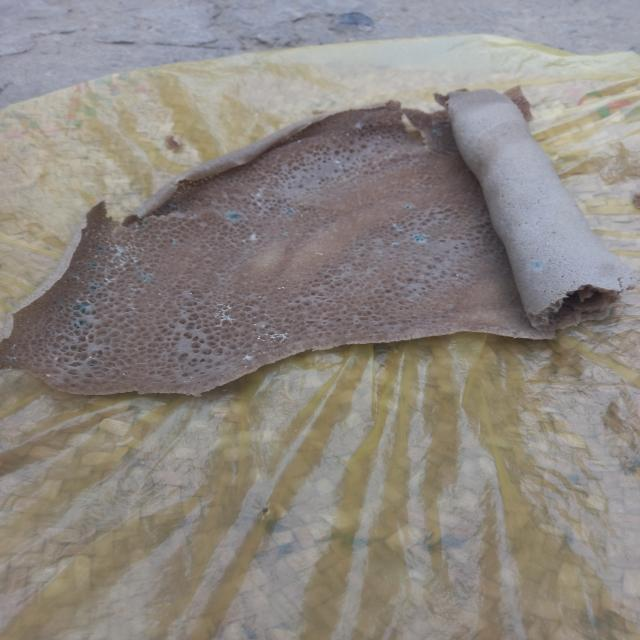injera_mold: (110, 241, 138, 267), (255, 326, 290, 345), (211, 302, 237, 326), (247, 186, 267, 203), (222, 209, 245, 223), (71, 299, 93, 312), (64, 316, 86, 329), (83, 280, 103, 292), (86, 259, 104, 271), (391, 221, 407, 233), (430, 125, 444, 138), (240, 352, 257, 362), (414, 233, 428, 245), (141, 271, 155, 283), (92, 243, 108, 253), (248, 231, 260, 243), (532, 260, 546, 270), (401, 201, 415, 211), (284, 206, 296, 217), (353, 118, 364, 130), (280, 228, 290, 237)
